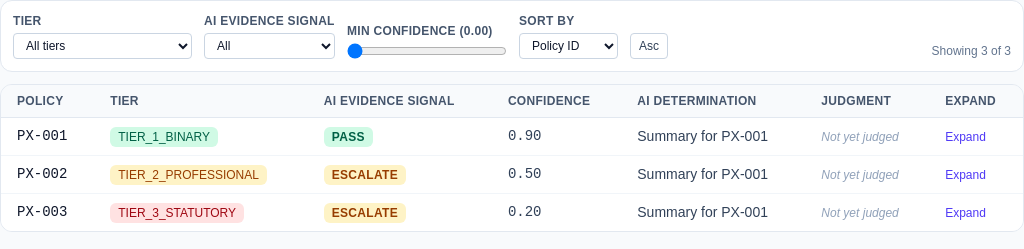
Test case: PerPolicyResultsTable filtering › hides rows below the confidence threshold
This screenshot has width=1024, height=249.
Set the slider with test id "filter-min-confidence" to "0.6" at (441, 51), box [347,43,507,59]
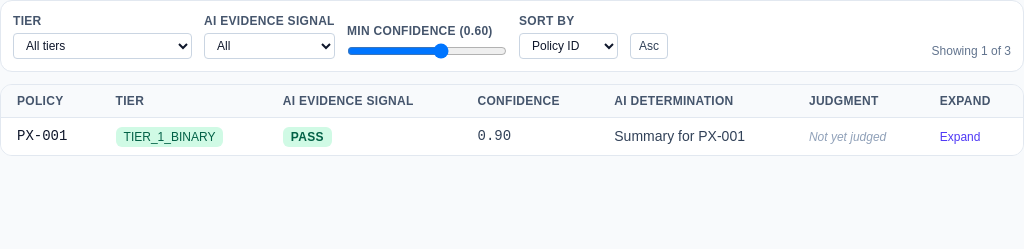
Result: the number of rows with test id "per-policy-row" is 1 at [1,118,1023,155]
